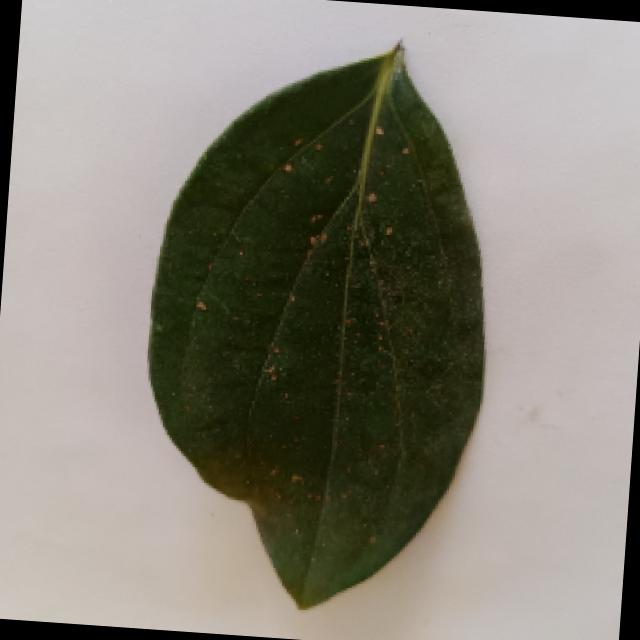pollu-disease: (125, 29, 504, 620)
